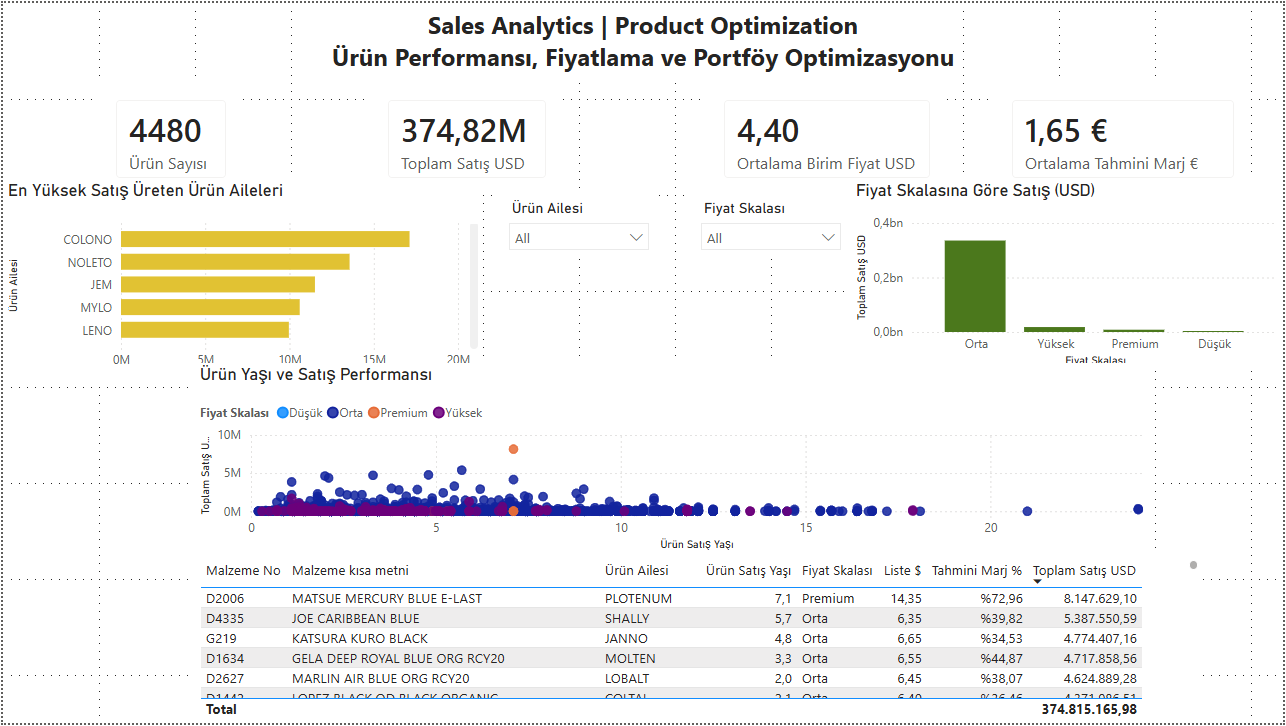

What the dashboard file says about the page in this screenshot:
{"tool":"powerbi","page":{"name":"04 - Product Optimization","canvas":[1280,720],"ordinal":3},"visuals":[{"type":"textbox","box":[320,0,640,80],"z":0},{"type":"cardVisual","fields":{"Data":["FactSales.Toplam Satış USD"]},"box":[368,80,192,112],"z":1000},{"type":"cardVisual","fields":{"Data":["FactSales.Ortalama Birim Fiyat USD"]},"box":[704,80,240,112],"z":2000},{"type":"cardVisual","fields":{"Data":["FactSales.Ürün Sayısı"]},"box":[96,80,144,112],"z":3000},{"type":"cardVisual","fields":{"Data":["Avg(DimProduct.Tahmini Marj €)"]},"box":[992,80,256,112],"z":4000},{"type":"slicer","fields":{"Values":["DimProduct.Ürün Ailesi"]},"box":[496,192,160,64],"z":5000},{"type":"slicer","fields":{"Values":["DimProduct.Fiyat Skalası"]},"box":[688,192,160,64],"z":6000},{"type":"clusteredBarChart","title":"En Yüksek Satış Üreten Ürün Aileleri","fields":{"Category":["DimProduct.Ürün Ailesi"],"Y":["FactSales.Toplam Satış USD"]},"box":[0,176,480,208],"z":7000},{"type":"clusteredColumnChart","title":"Fiyat Skalasına Göre Satış (USD)","fields":{"Category":["DimProduct.Fiyat Skalası"],"Y":["FactSales.Toplam Satış USD"]},"box":[848,176,432,192],"z":8000},{"type":"scatterChart","title":"Ürün Yaşı ve Satış Performansı","fields":{"Category":["DimProduct.Malzeme No"],"Series":["DimProduct.Fiyat Skalası"],"X":["DimProduct.Ürün Satış Yaşı"],"Y":["FactSales.Toplam Satış USD"]},"box":[192,360,960,192],"z":9000},{"type":"tableEx","fields":{"Values":["DimProduct.Malzeme No","DimProduct.Malzeme kısa metni","DimProduct.Ürün Ailesi","DimProduct.Ürün Satış Yaşı","DimProduct.Fiyat Skalası","DimProduct.Liste $","DimProduct.Tahmini Marj %","FactSales.Toplam Satış USD"]},"box":[192,552,1008,168],"z":10000}]}

Visuals, with their boxes in screenshot pixels (x1, y1, x2, y2), scaled from the page's 1280x720 canvas onto the 1286x726 screenshot:
textbox: <region>322, 0, 964, 81</region>
cardVisual - FactSales.Toplam Satış USD: <region>370, 81, 563, 194</region>
cardVisual - FactSales.Ortalama Birim Fiyat USD: <region>707, 81, 948, 194</region>
cardVisual - FactSales.Ürün Sayısı: <region>96, 81, 241, 194</region>
cardVisual - Avg(DimProduct.Tahmini Marj €): <region>997, 81, 1254, 194</region>
slicer - DimProduct.Ürün Ailesi: <region>498, 194, 659, 258</region>
slicer - DimProduct.Fiyat Skalası: <region>691, 194, 852, 258</region>
"En Yüksek Satış Üreten Ürün Aileleri" clusteredBarChart: <region>0, 177, 482, 387</region>
"Fiyat Skalasına Göre Satış (USD)" clusteredColumnChart: <region>852, 177, 1285, 371</region>
"Ürün Yaşı ve Satış Performansı" scatterChart: <region>193, 363, 1157, 557</region>
tableEx - DimProduct.Malzeme No x DimProduct.Malzeme kısa metni: <region>193, 557, 1206, 725</region>
